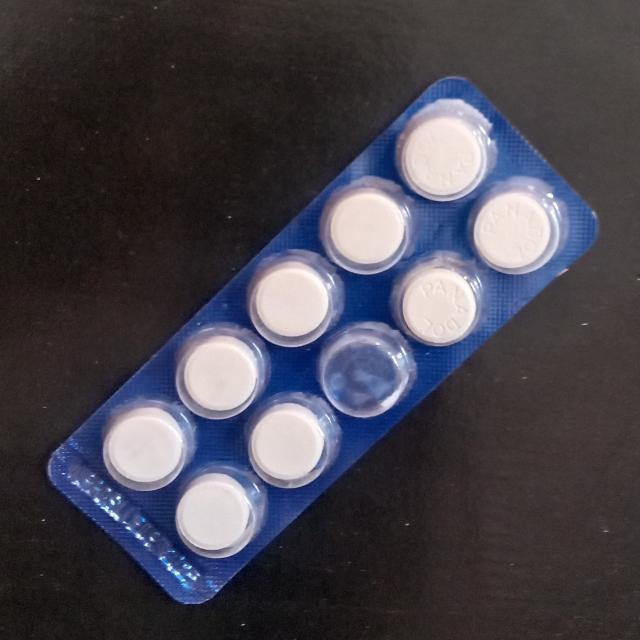defect: (321, 328, 409, 419)
